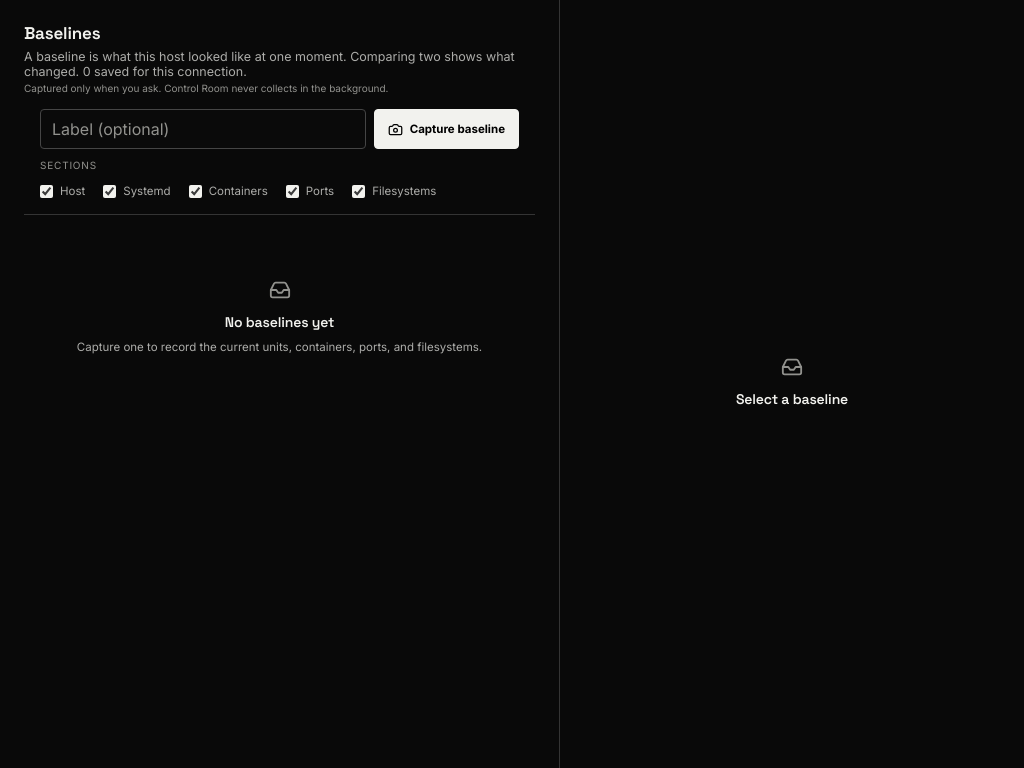
it: baselines pane › shows capture progress and cancels the active capture without requesting another
Expected: the heading "No baselines yet" is shown, [225,313,334,331]
Click the button "Capture baseline" at (446, 129), box [374,109,519,149]
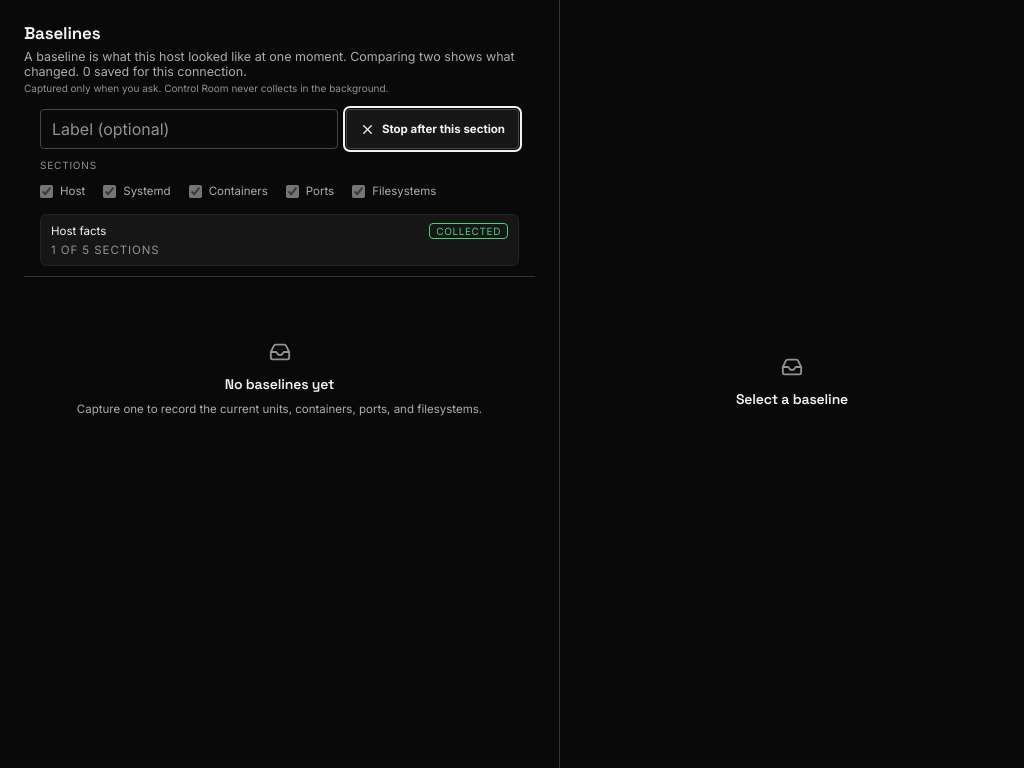
Expected: the button "Stop after this section" is shown
Expected: the list with class "baseline-progress" shows "Host facts", [51,224,106,238]
Click the button "Stop after this section" at (432, 129), box [346,109,519,149]
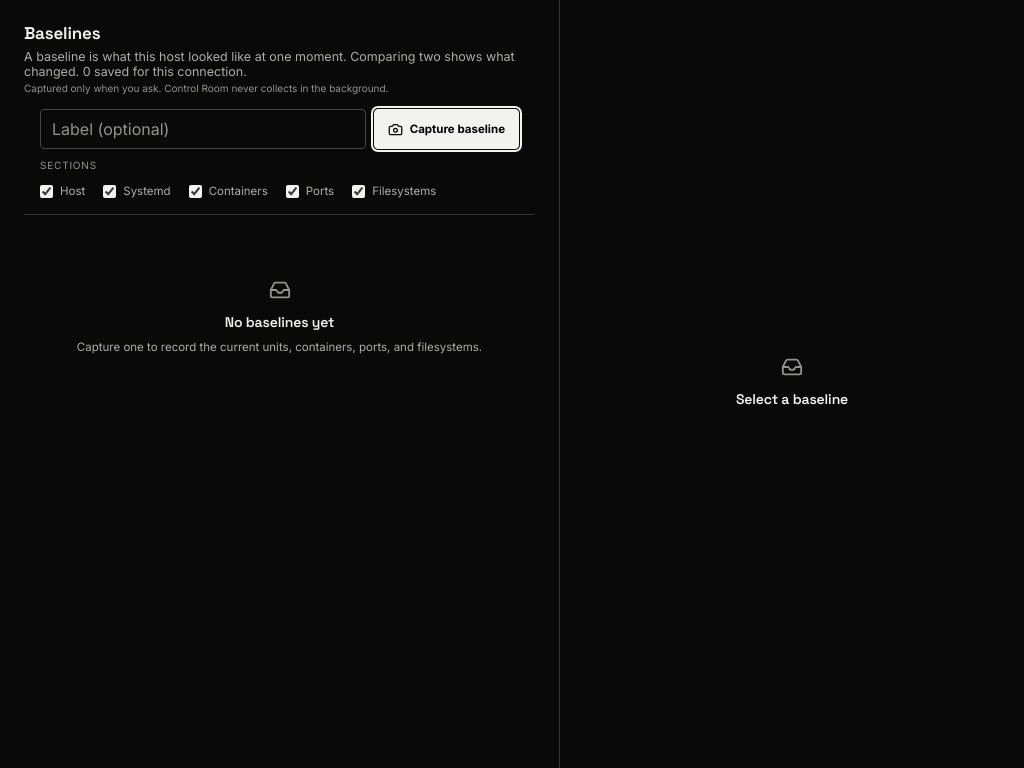
Expected: the button "Stop after this section" is gone
